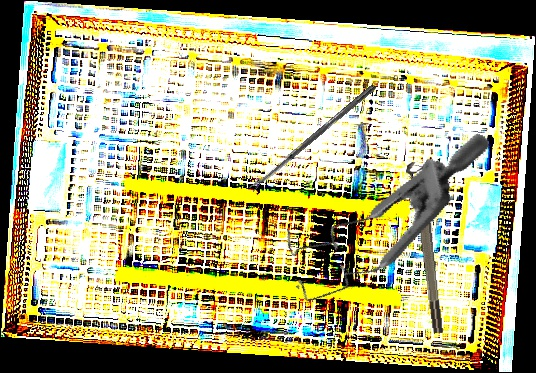Fixation Ring: (405, 160, 446, 335)
Speculum: (264, 80, 493, 345)
Surgical Spoon: (248, 83, 377, 192)
